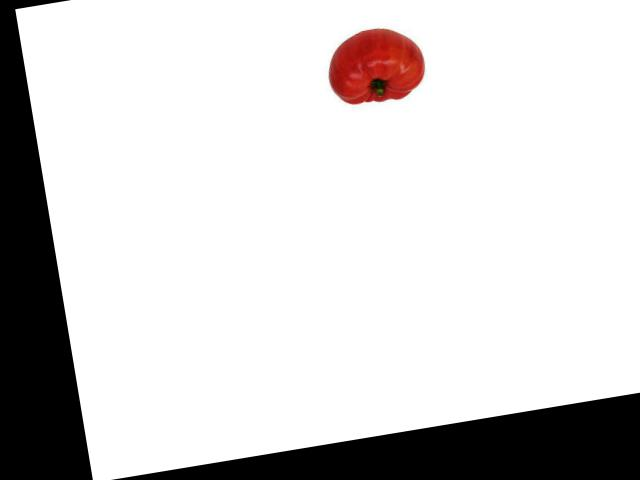tomato: (323, 22, 429, 107)
